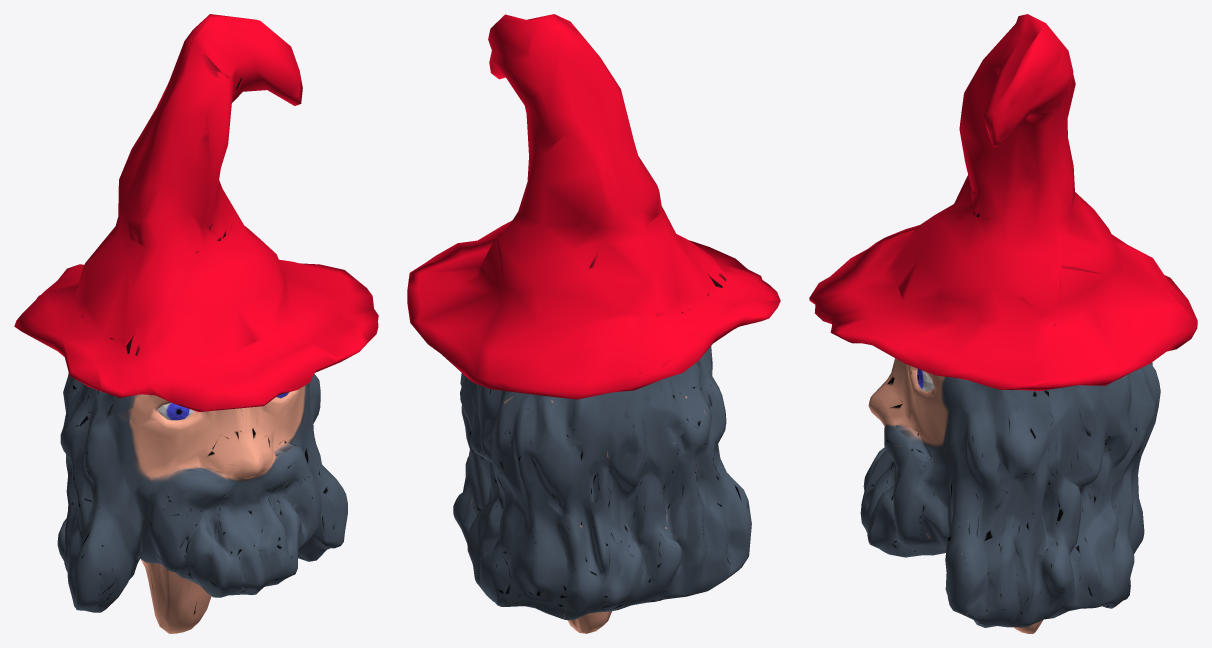
Rendered from Wizard_Head_A.fbx.
The picture shows the model from 3 angles, left to right: view 1: azimuth 30°, elevation 25°; view 2: azimuth 150°, elevation 25°; view 3: azimuth 270°, elevation 25°; orthographic projection. The views are drawn at different scales.
Parts seen in each view (by area): view 1: Icosphere.001, Icosphere; view 2: Icosphere.001, Icosphere; view 3: Icosphere.001, Icosphere.
Boxes of the visible parts, x1=… form: Icosphere.001: x1=14, y1=14, x2=378, y2=411; Icosphere: x1=57, y1=373, x2=347, y2=633; Icosphere.001: x1=407, y1=14, x2=780, y2=399; Icosphere: x1=453, y1=346, x2=751, y2=633; Icosphere.001: x1=809, y1=14, x2=1197, y2=390; Icosphere: x1=860, y1=358, x2=1160, y2=633.
Bounding box in the file's own units: 330 × 603 × 335.
